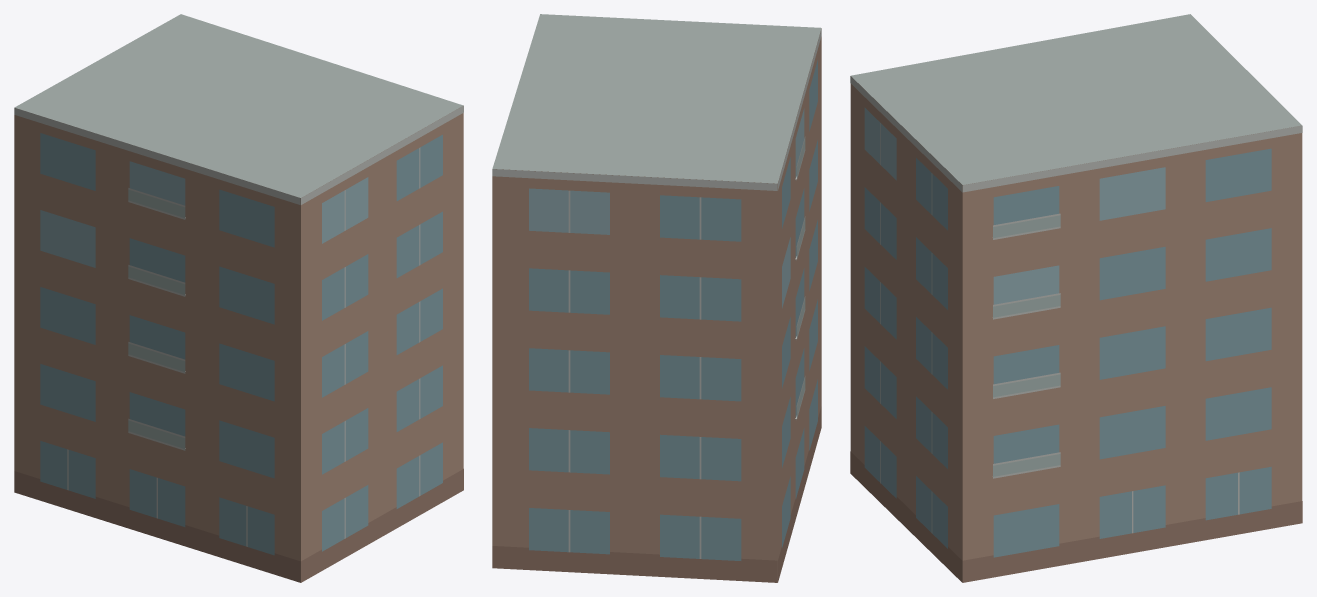
File: survey-upis-32967298.glb
The picture shows the model from 3 angles, left to right: view 1: azimuth 30°, elevation 25°; view 2: azimuth 150°, elevation 25°; view 3: azimuth 270°, elevation 25°; orthographic projection. The views are drawn at different scales.
Parts seen in each view (by area): view 1: survey-upis-32967298.tmp; view 2: survey-upis-32967298.tmp; view 3: survey-upis-32967298.tmp.
Boxes of the visible parts, x1,y1,x2,y2 form: survey-upis-32967298.tmp: [14, 14, 463, 582]; survey-upis-32967298.tmp: [492, 14, 821, 582]; survey-upis-32967298.tmp: [850, 14, 1302, 582].
Bounding box in the file's own units: 12.1 × 13.1 × 13.5.
